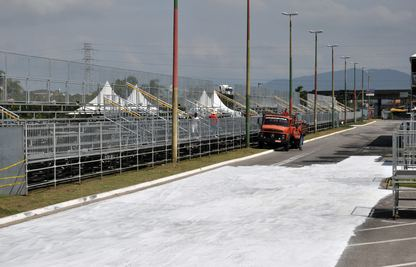truck: (258, 107, 311, 151)
